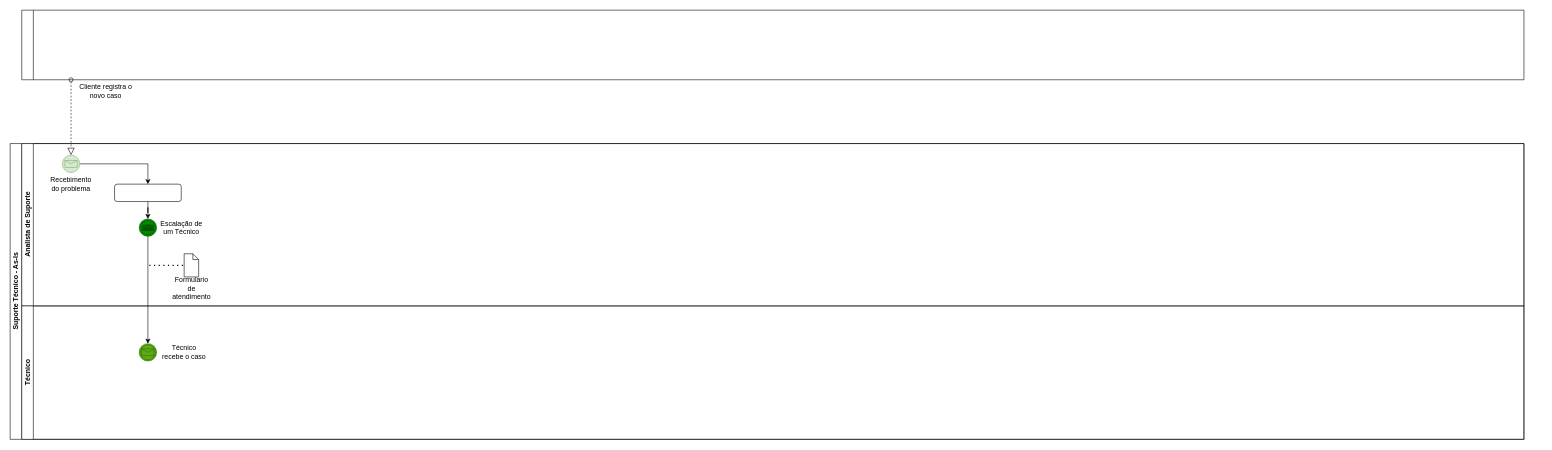
This 1552x450 diagram has some shape labels left out. The shapes that lost their labels are listed below. From the top down, each one's centre as x and y in pixels, then its label:
At point 772,45: "Cliente".
At point 147,193: "Registro no sistema".
